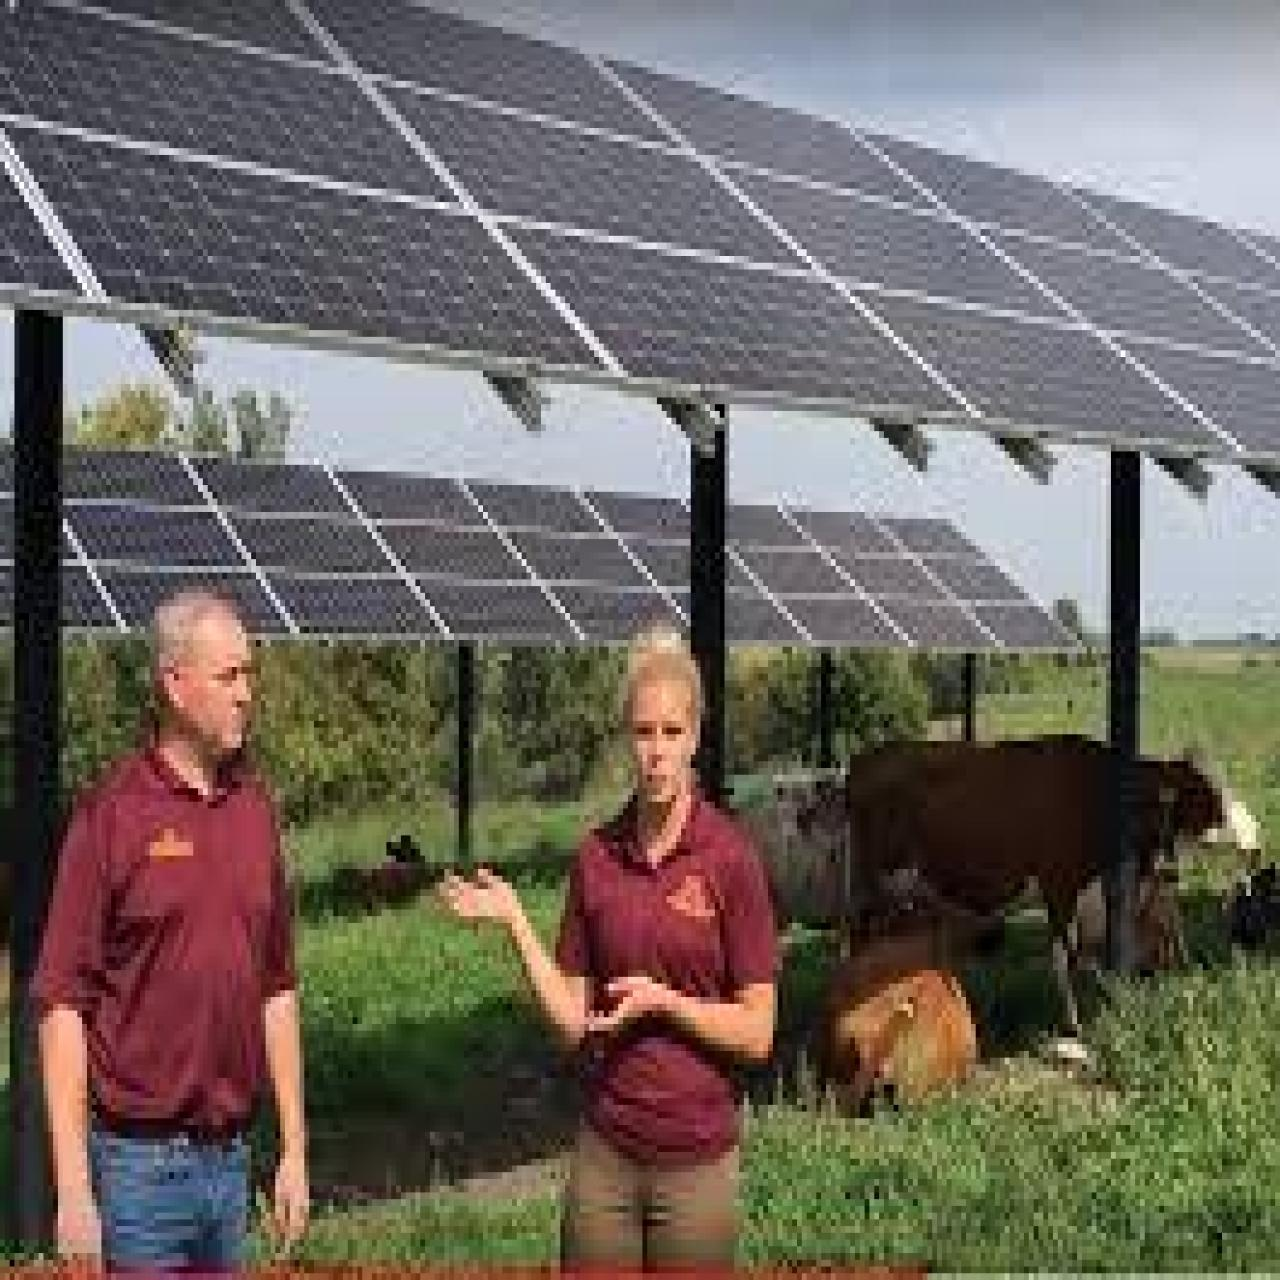cow: (838, 735, 1262, 1037)
